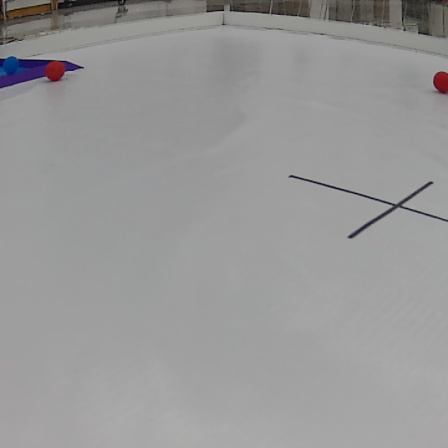blue: (1, 54, 24, 76)
blue_aim: (0, 52, 87, 93)
red: (428, 67, 448, 96), (46, 62, 67, 80)
